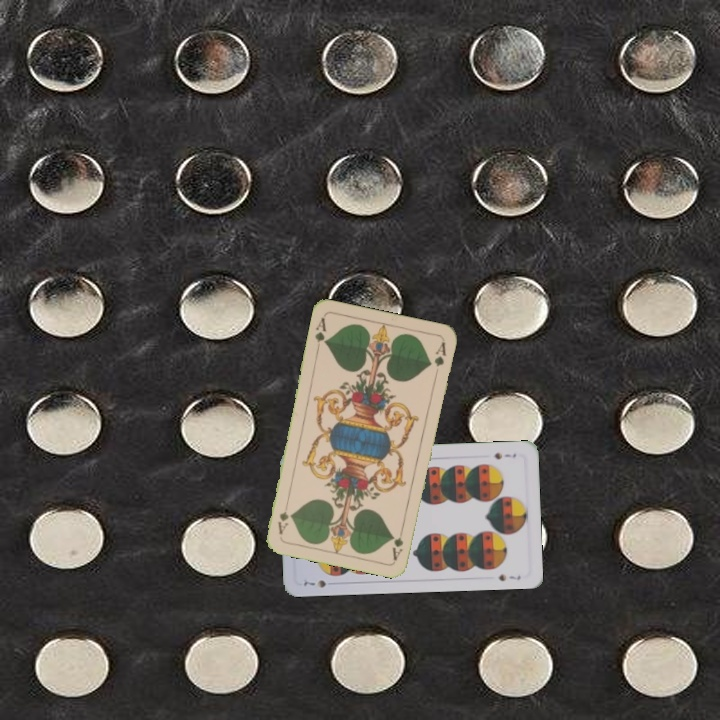GA: (388, 522, 406, 563), (311, 313, 329, 353)
S7: (298, 575, 329, 590), (490, 448, 518, 462)
